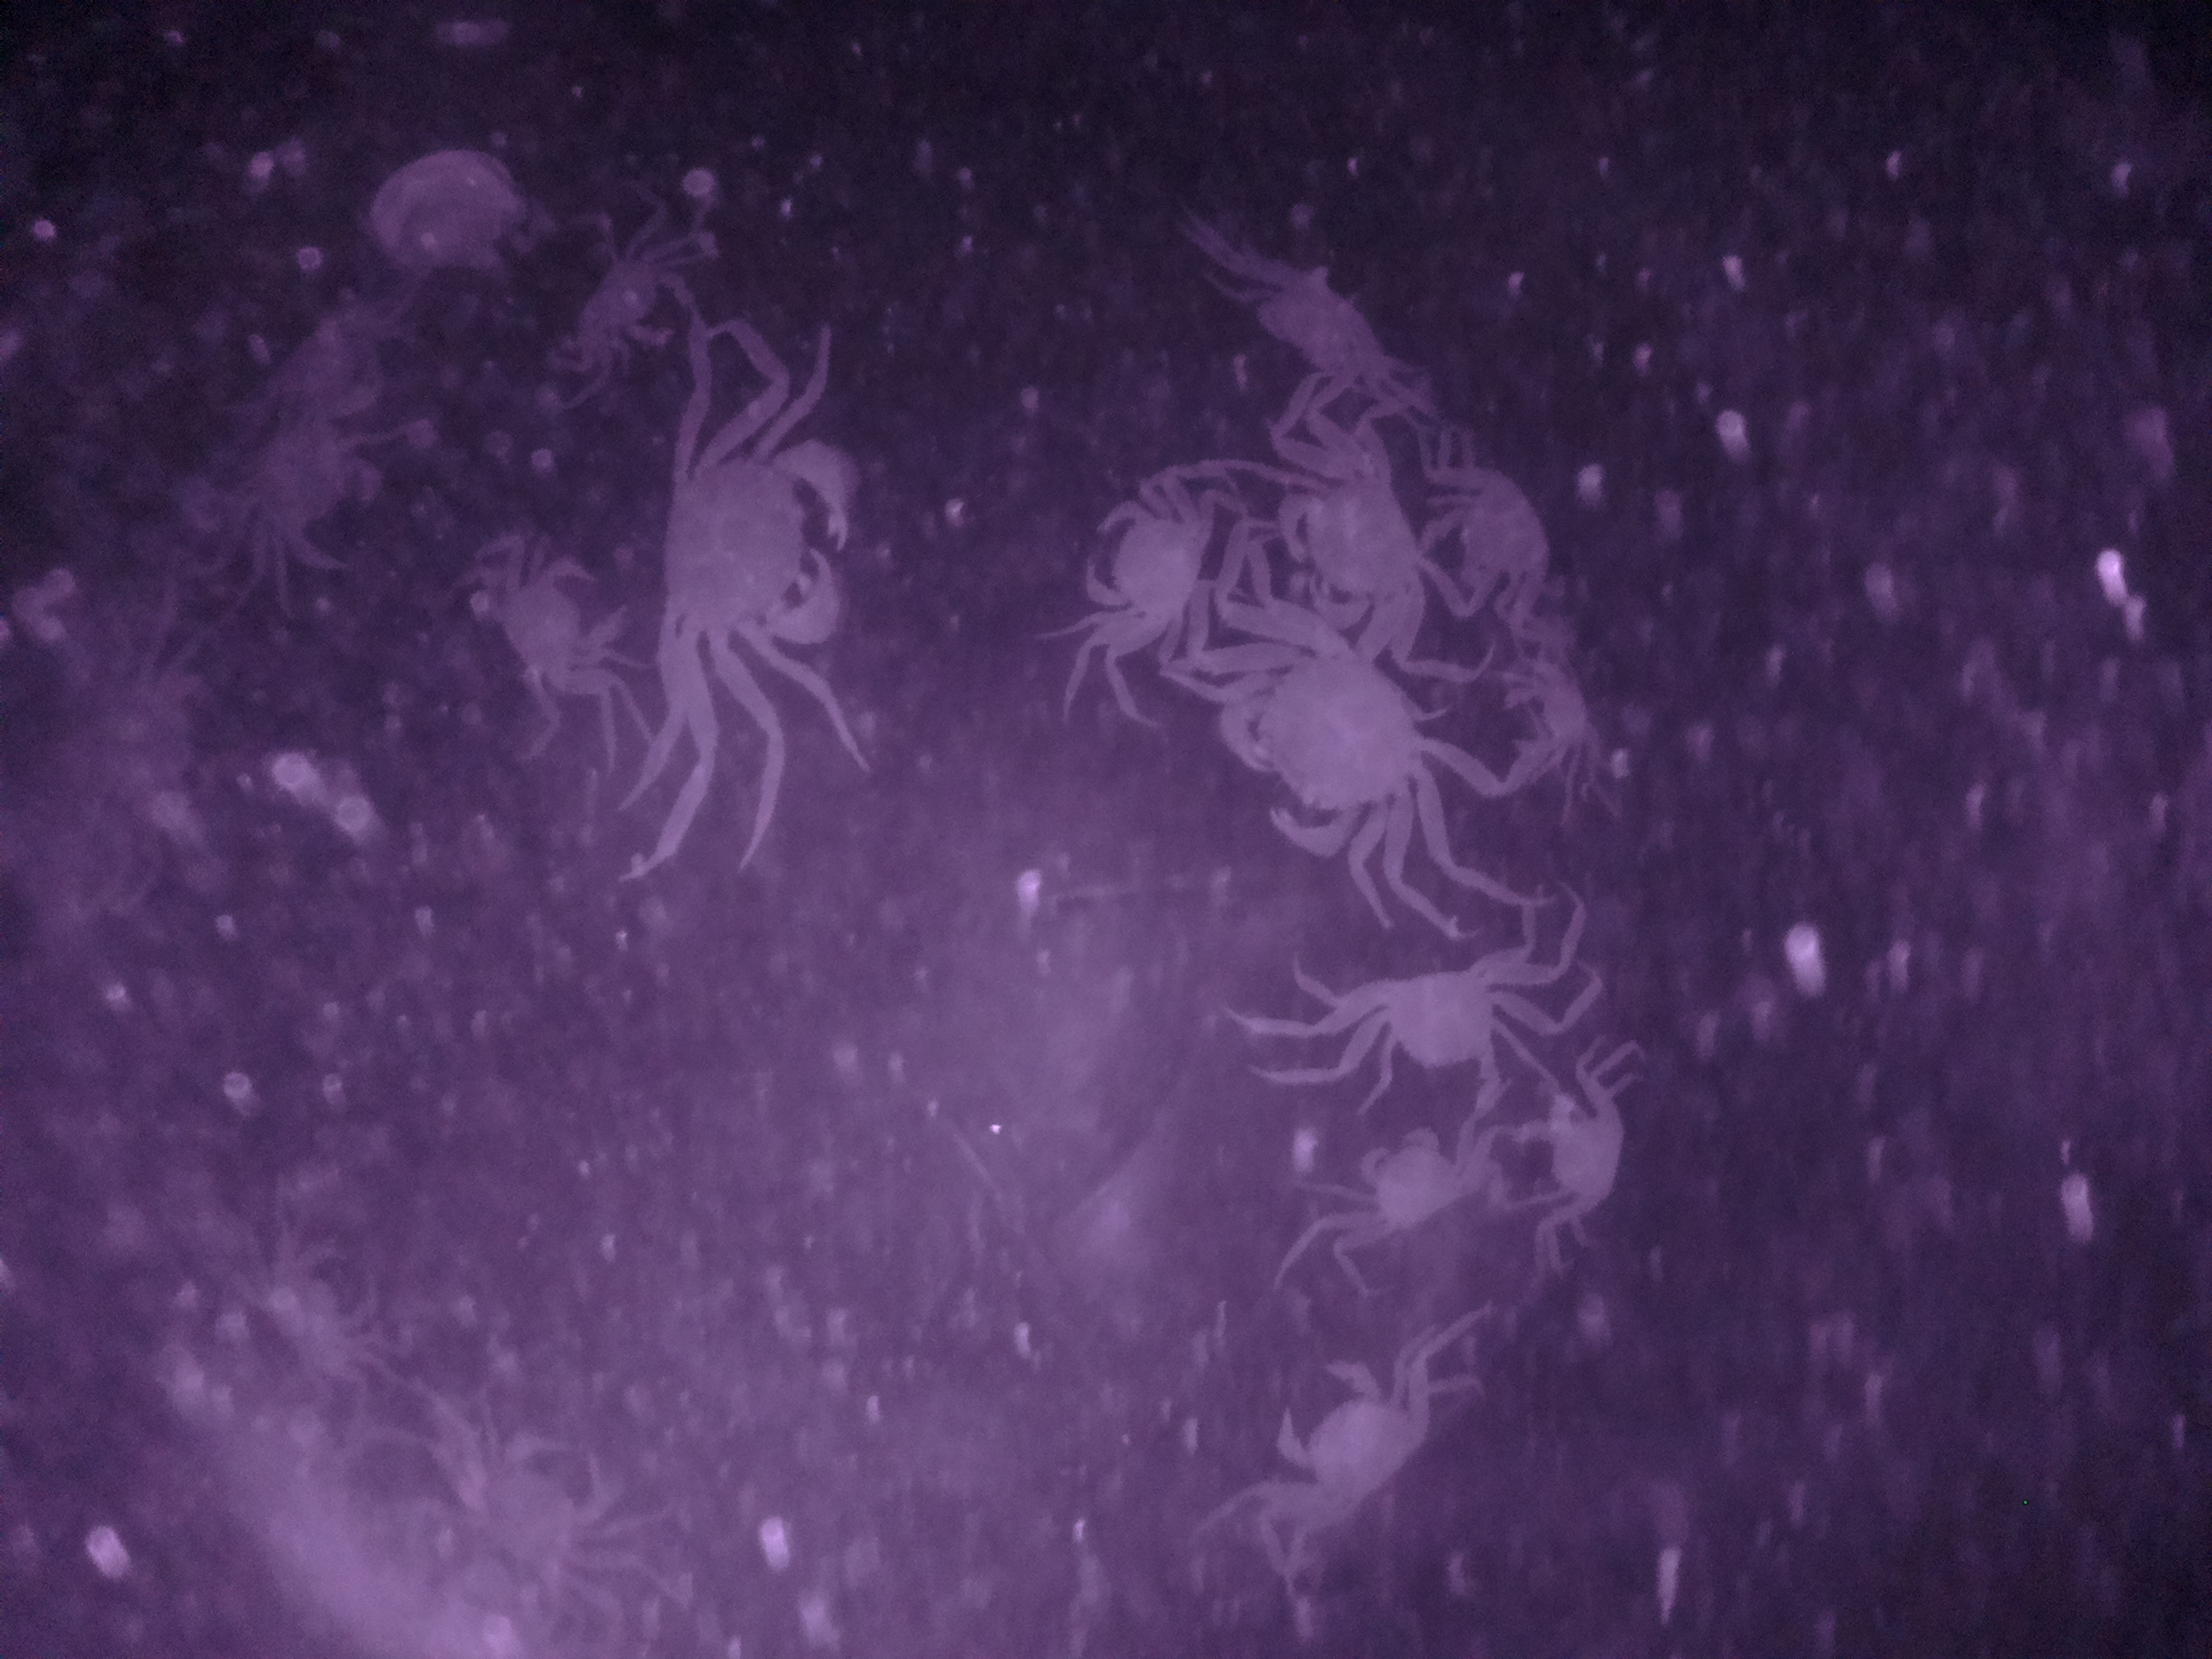Crab: (1198, 626, 1437, 873), (665, 416, 857, 701), (1256, 1345, 1442, 1553), (1308, 950, 1540, 1101), (1277, 448, 1430, 638), (1059, 472, 1223, 645), (1317, 1112, 1489, 1262), (470, 551, 639, 701), (1418, 460, 1575, 612)
